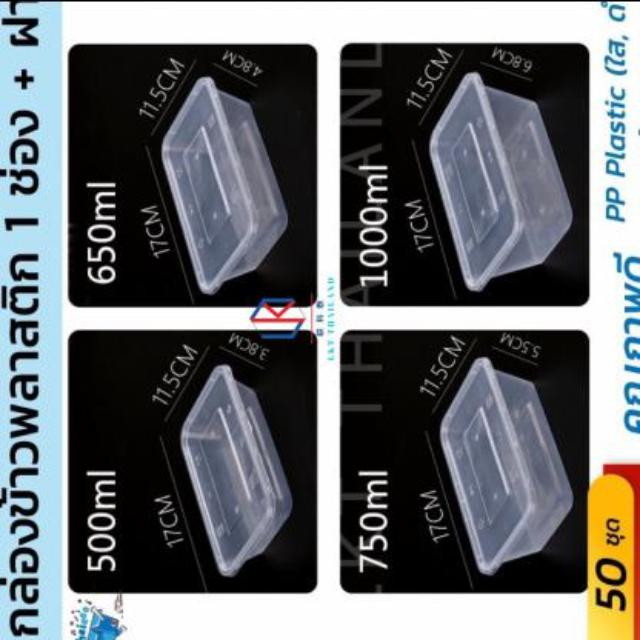plastic_box: (431, 67, 574, 290), (442, 356, 574, 570), (161, 73, 287, 291), (182, 364, 294, 576)
